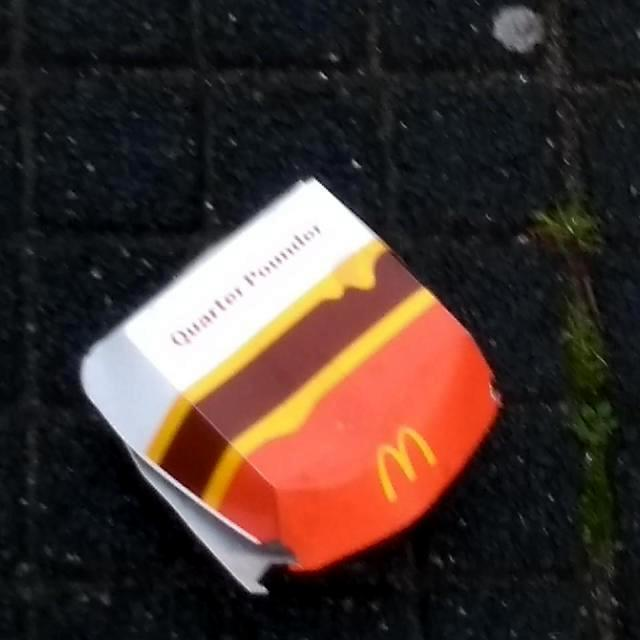Paper: (78, 165, 504, 599)
